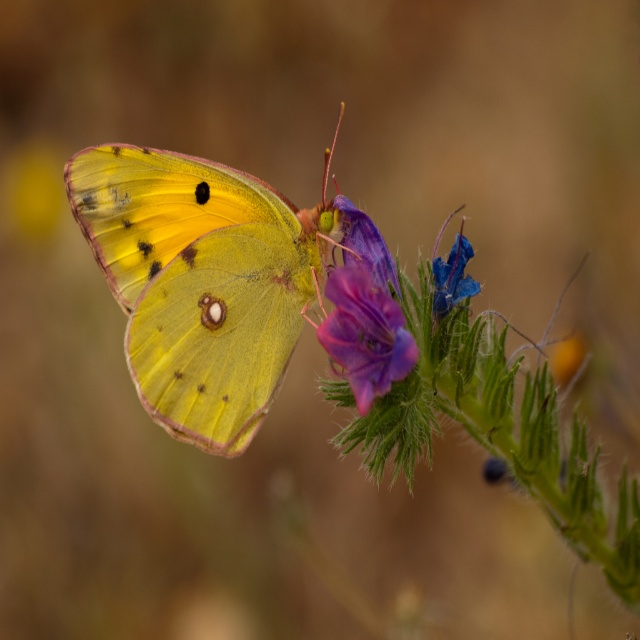Butterfly: (63, 102, 363, 458)
